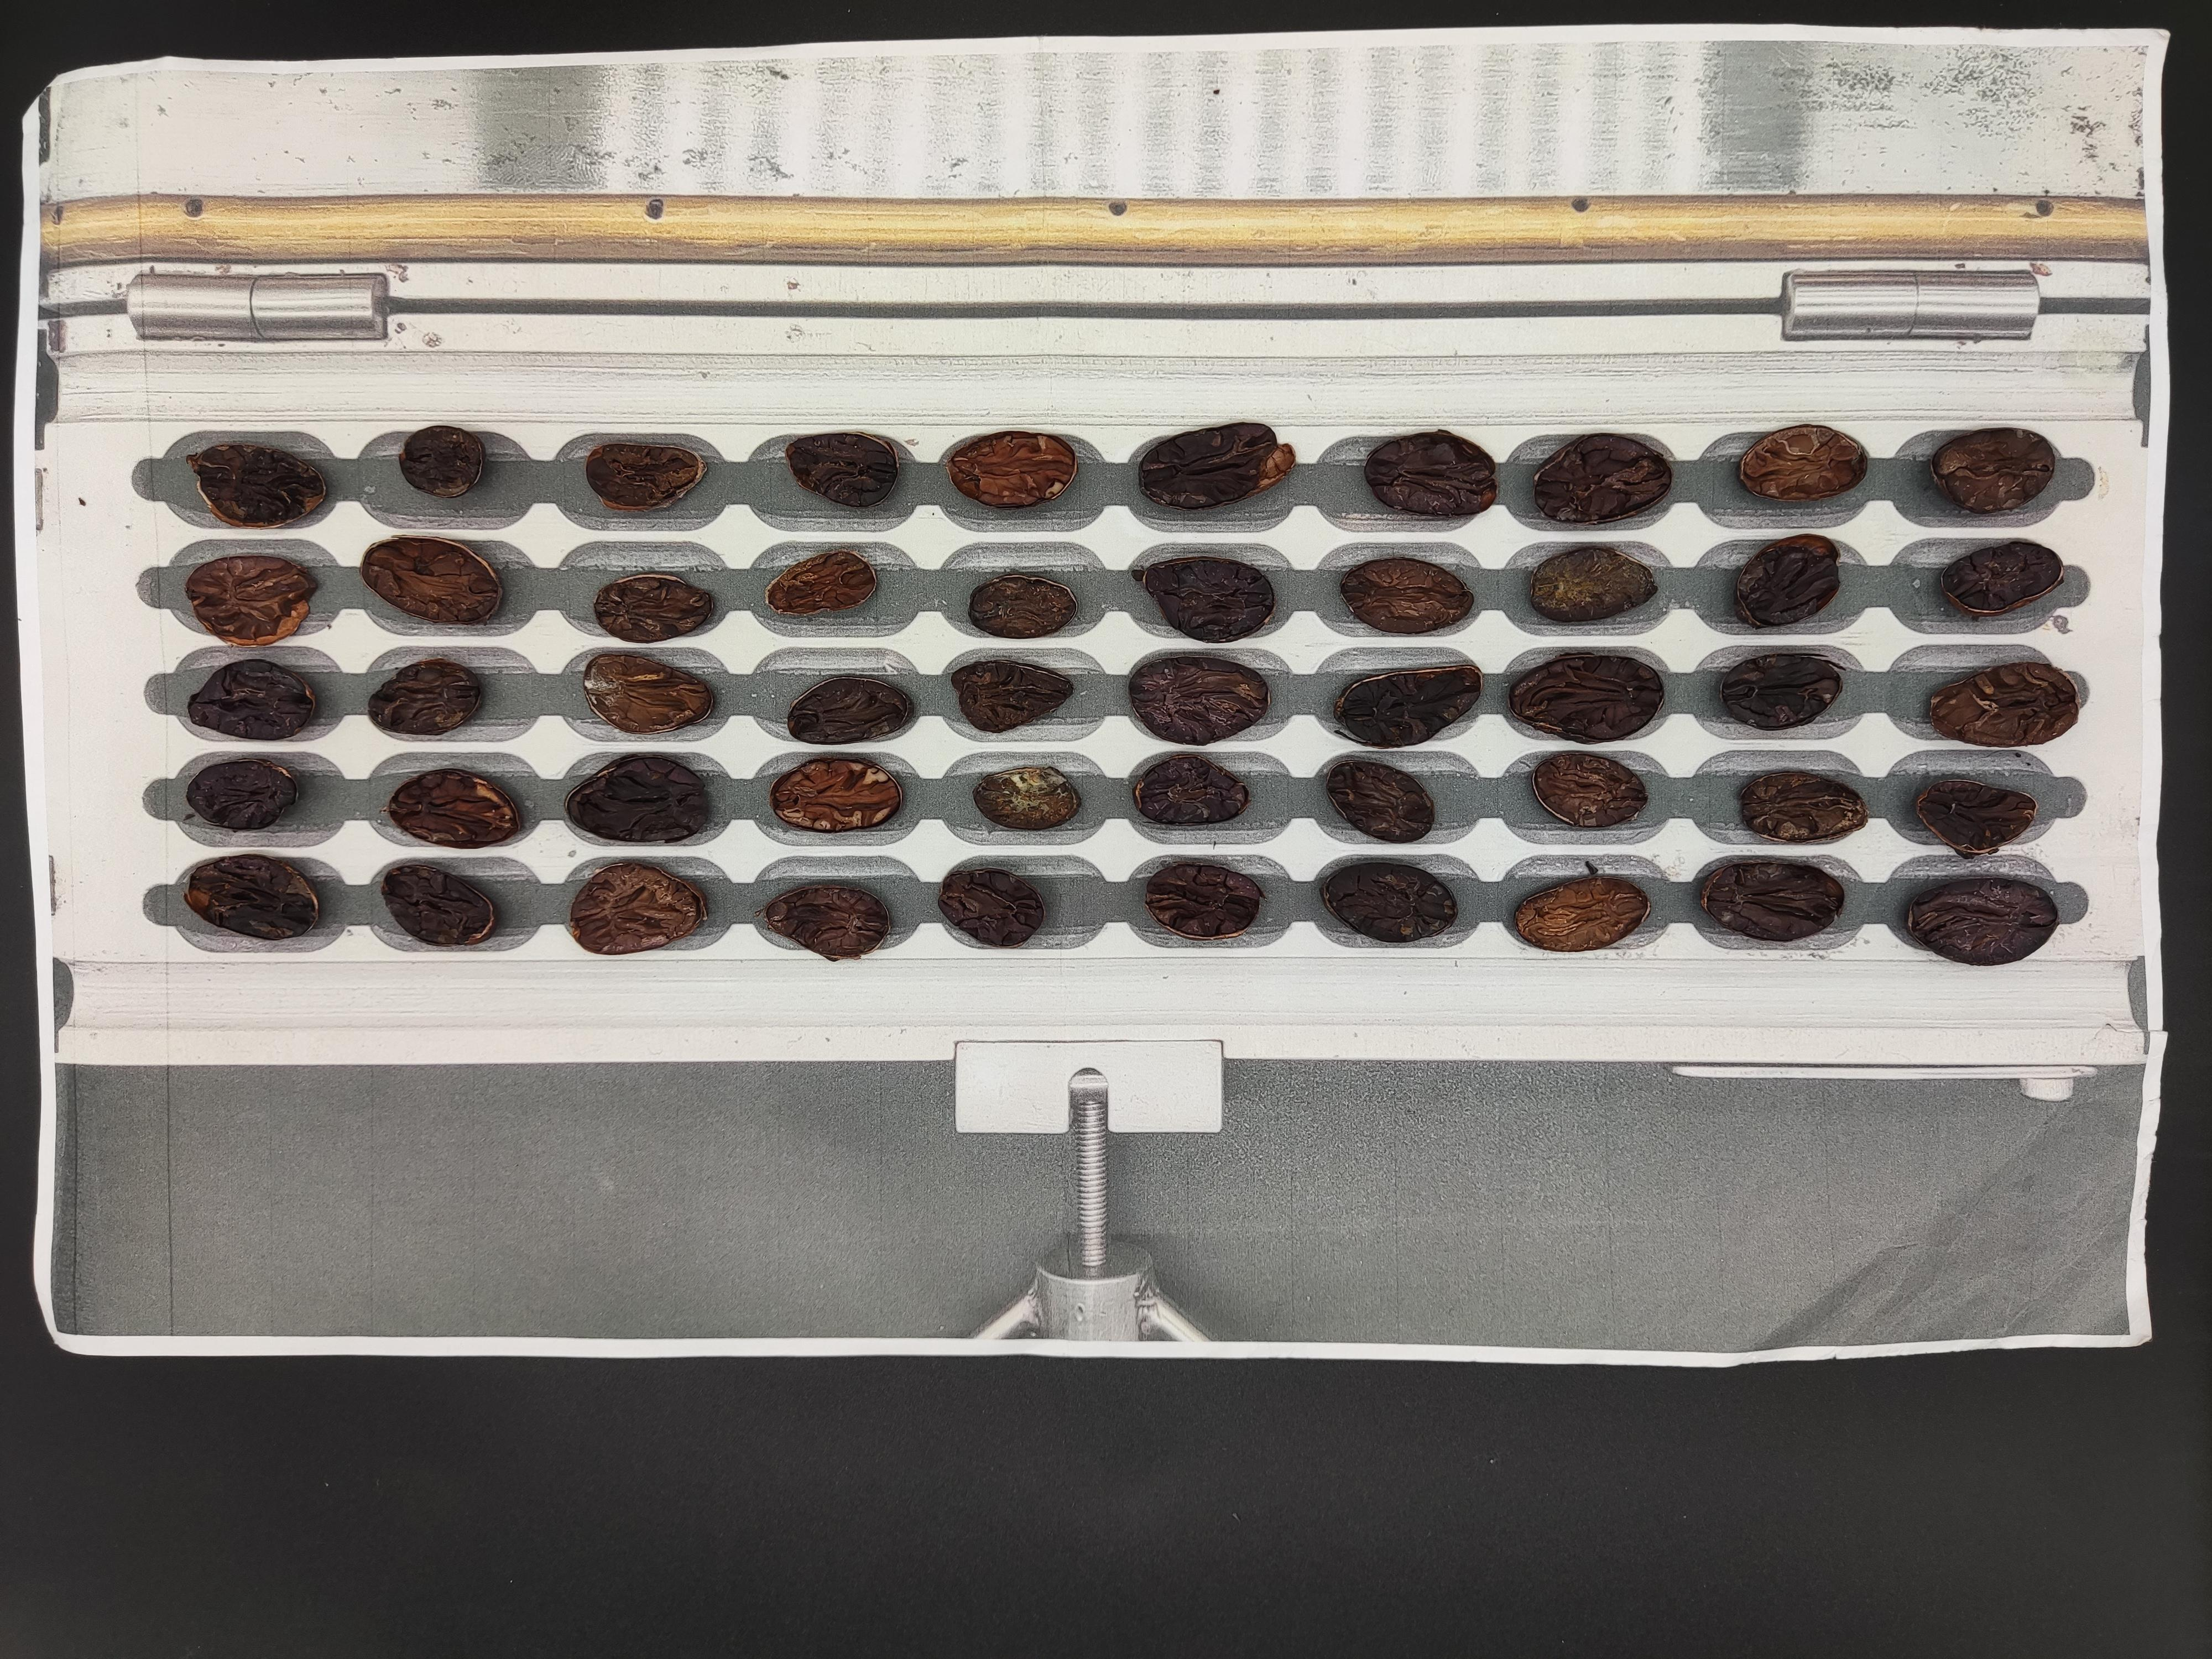Brown - G1: (1848, 1138, 1937, 1194), (1174, 1091, 1245, 1145), (1468, 1194, 1547, 1241), (1275, 1199, 1350, 1248), (1562, 1026, 1635, 1073), (1378, 1100, 1451, 1145), (1966, 1202, 2041, 1246), (1467, 1087, 1533, 1131)
Brown - G2: (2066, 1143, 2148, 1197), (1367, 1248, 1446, 1303), (1965, 1021, 2043, 1070), (1857, 1192, 1930, 1237), (1564, 1145, 1635, 1190), (1468, 1262, 1540, 1305)
Brown - G3: (1263, 1079, 1341, 1134), (2064, 1023, 2137, 1079), (1850, 1253, 1930, 1302), (1763, 1091, 1841, 1138), (1372, 1033, 1446, 1075)
Brown - G4: (1571, 1100, 1635, 1141)
Insect-damaged: (1857, 1086, 1933, 1133)
Mouldy: (1376, 1141, 1449, 1188), (1575, 1197, 1637, 1239)
Partly Purple - G1: (1366, 1194, 1447, 1244), (1662, 1249, 1731, 1293)
Partly Purple - G2: (1944, 1246, 2027, 1297), (1655, 1141, 1735, 1194), (1763, 1147, 1844, 1195), (1170, 1244, 1249, 1295), (1775, 1026, 1851, 1077), (1273, 1248, 1339, 1300), (1475, 1026, 1545, 1075), (1557, 1251, 1618, 1300)
Total Purple - G2: (1172, 1145, 1247, 1190), (1656, 1194, 1724, 1237)
Total Purple - G3: (2052, 1256, 2139, 1309), (1660, 1091, 1738, 1145), (2071, 1082, 2142, 1131), (1170, 1194, 1238, 1239)
Very Dark Brown - G1: (1658, 1023, 1749, 1073), (1170, 1032, 1252, 1084), (1963, 1080, 2027, 1136)
Very Dark Brown - G2: (1858, 1028, 1944, 1086), (2052, 1204, 2127, 1253), (1750, 1195, 1820, 1244), (1954, 1141, 2029, 1187), (1266, 1147, 1332, 1194)
Very Dark Brown - G3: (1752, 1246, 1831, 1295), (1480, 1152, 1552, 1195), (1280, 1023, 1332, 1068)
